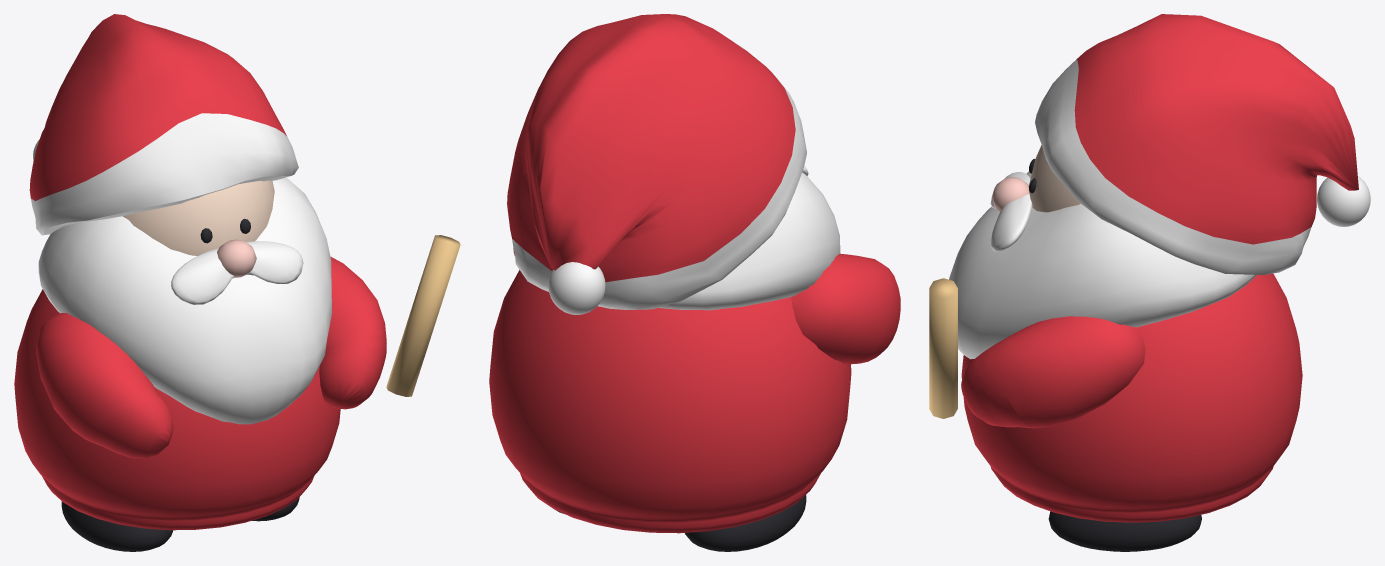
File: churros.glb
3 views of the same model, side by side, from view 1: azimuth 30°, elevation 25°; view 2: azimuth 150°, elevation 25°; view 3: azimuth 270°, elevation 25° (orthographic). The views are drawn at different scales.
Parts seen in each view (by area): view 1: churros_red, churros_white, churros_skin, churros_bread, churros_black, churros_nose; view 2: churros_red, churros_white, churros_black; view 3: churros_red, churros_white, churros_black, churros_bread, churros_skin, churros_nose.
Boxes of the visible parts, x1,y1,x2,y2 form: churros_red: (14,14,386,530); churros_white: (31,113,332,424); churros_skin: (122,180,274,255); churros_bread: (386,235,460,396); churros_black: (61,219,299,551); churros_nose: (217,239,256,277); churros_red: (489,14,900,533); churros_white: (512,73,840,314); churros_black: (556,495,806,551); churros_red: (961,14,1358,522); churros_white: (949,59,1370,359); churros_black: (1029,159,1201,551); churros_bread: (929,278,957,418); churros_skin: (1028,145,1080,212); churros_nose: (991,177,1029,211).
Bounding box in the file's own units: 2.34 × 2.98 × 2.46.
